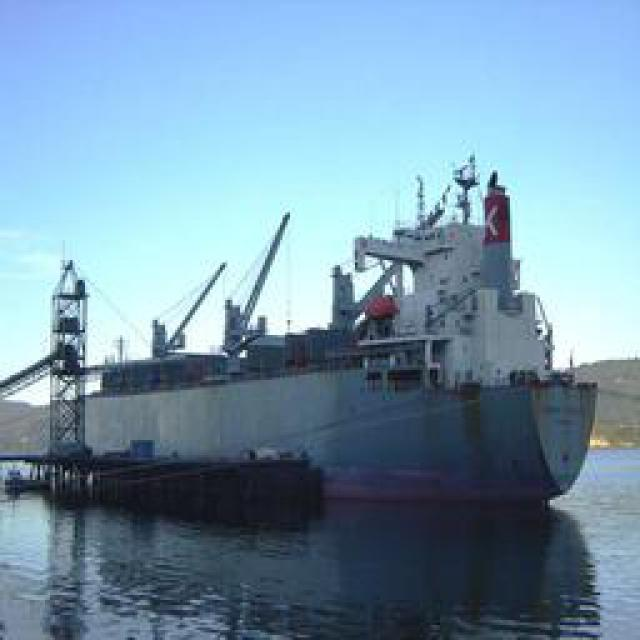Ship: (44, 165, 584, 503)
